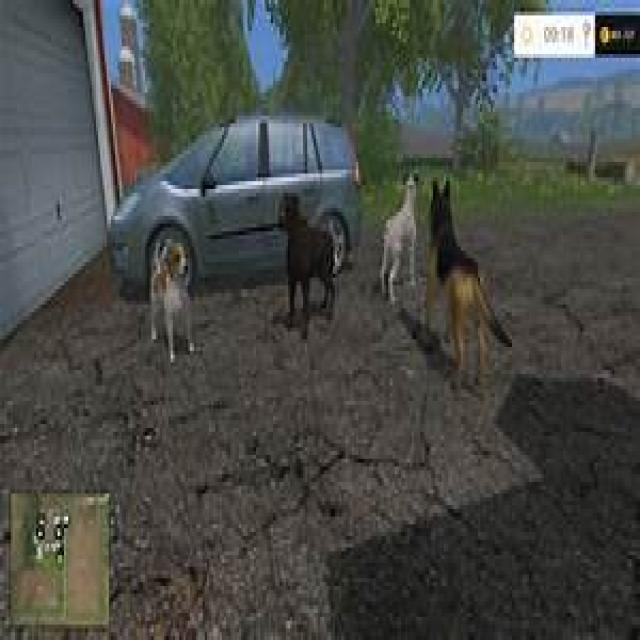dog: (425, 197, 512, 386), (282, 197, 348, 320), (145, 235, 196, 359), (382, 177, 422, 301)
